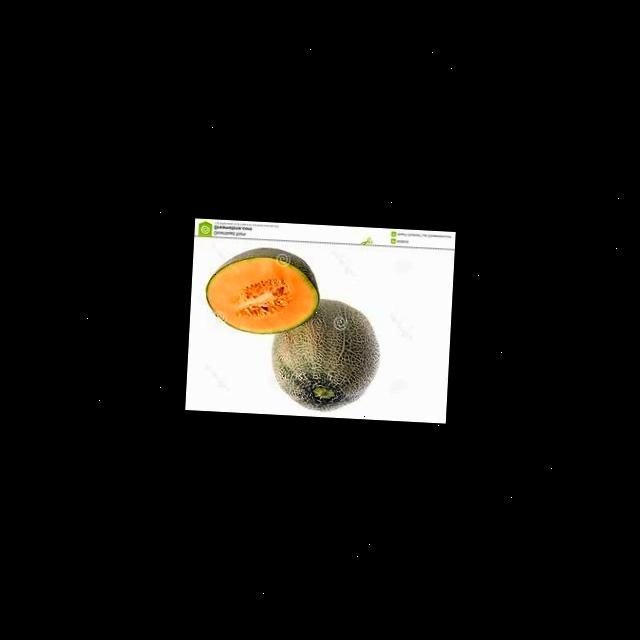Hami Melon: (267, 296, 382, 414), (204, 244, 321, 337)
